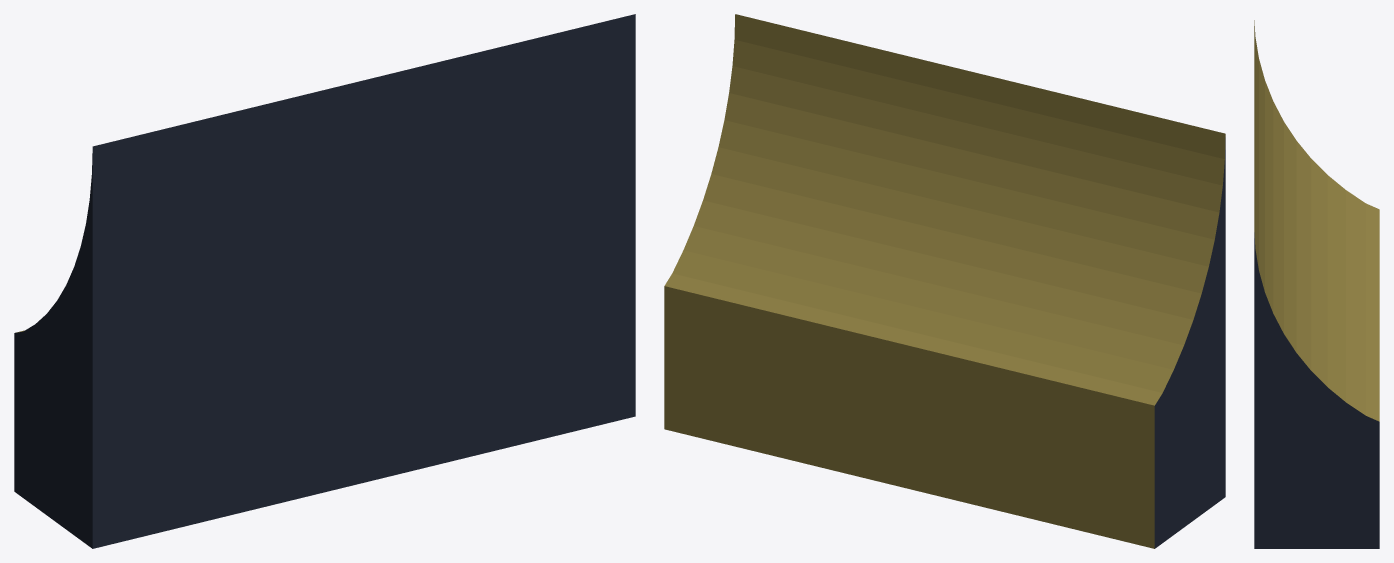
File: Ramp.fbx
3 views of the same model, side by side, from view 1: azimuth 30°, elevation 25°; view 2: azimuth 150°, elevation 25°; view 3: azimuth 270°, elevation 25° (orthographic). The views are drawn at different scales.
Parts seen in each view (by area): view 1: Ramp; view 2: Ramp; view 3: Ramp.
Part boxes in pixels (box(x1,y1,x2,y2)): Ramp: box(14, 14, 635, 548); Ramp: box(664, 14, 1225, 548); Ramp: box(1254, 20, 1379, 548).
Bounding box in the file's own units: 1600 × 1133 × 400.
